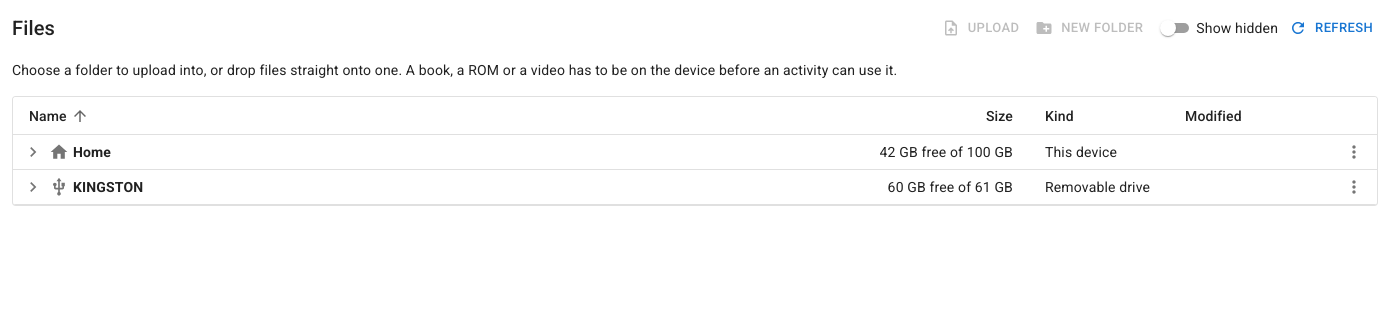
Test: the file tree › lists a place when it is opened, and nests what is inside
Expected: the heading "Files" is shown, [12, 12, 55, 44]
Click the button named "Expand Home".
click(33, 152)  # box [18, 137, 48, 167]
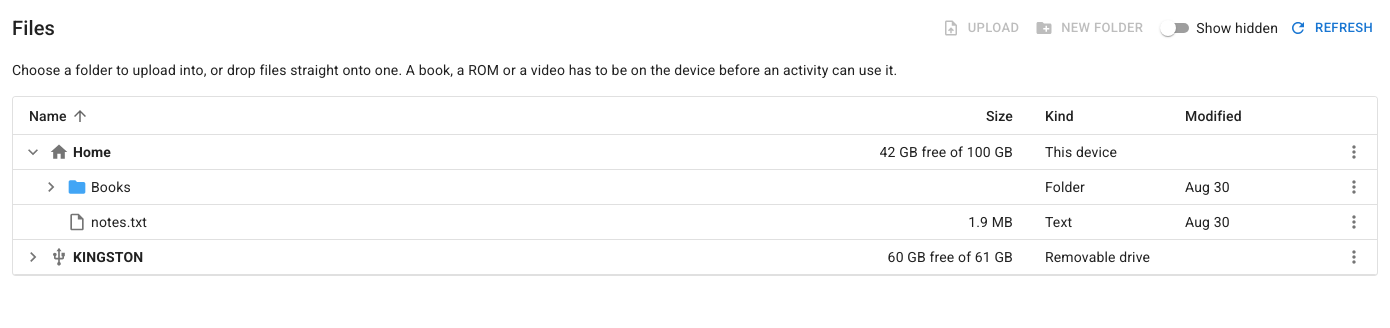
Now the text "Books" is shown, box [91, 179, 131, 195]
Now the text "notes.txt" is shown, box [91, 214, 147, 230]
Click the button named "Expand Books".
click(51, 187)  # box [36, 172, 66, 202]
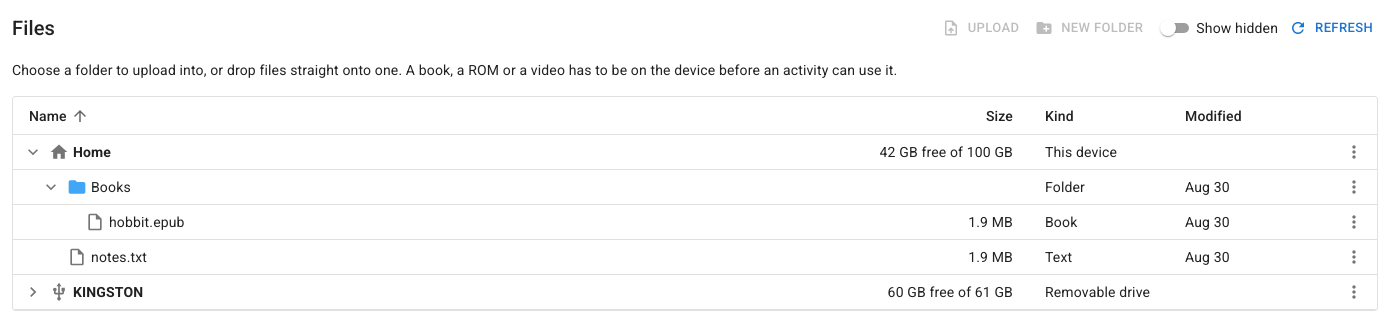
Now the text "hobbit.epub" is shown, box [109, 214, 185, 230]
